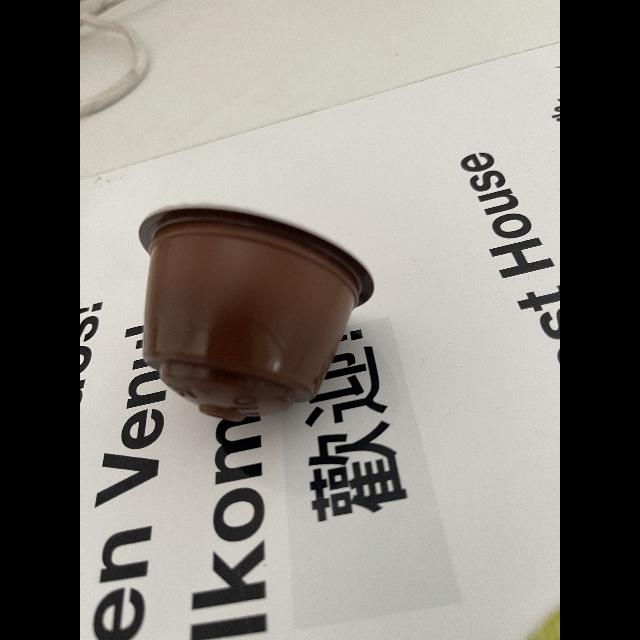intact_capsule: (112, 185, 404, 463)
